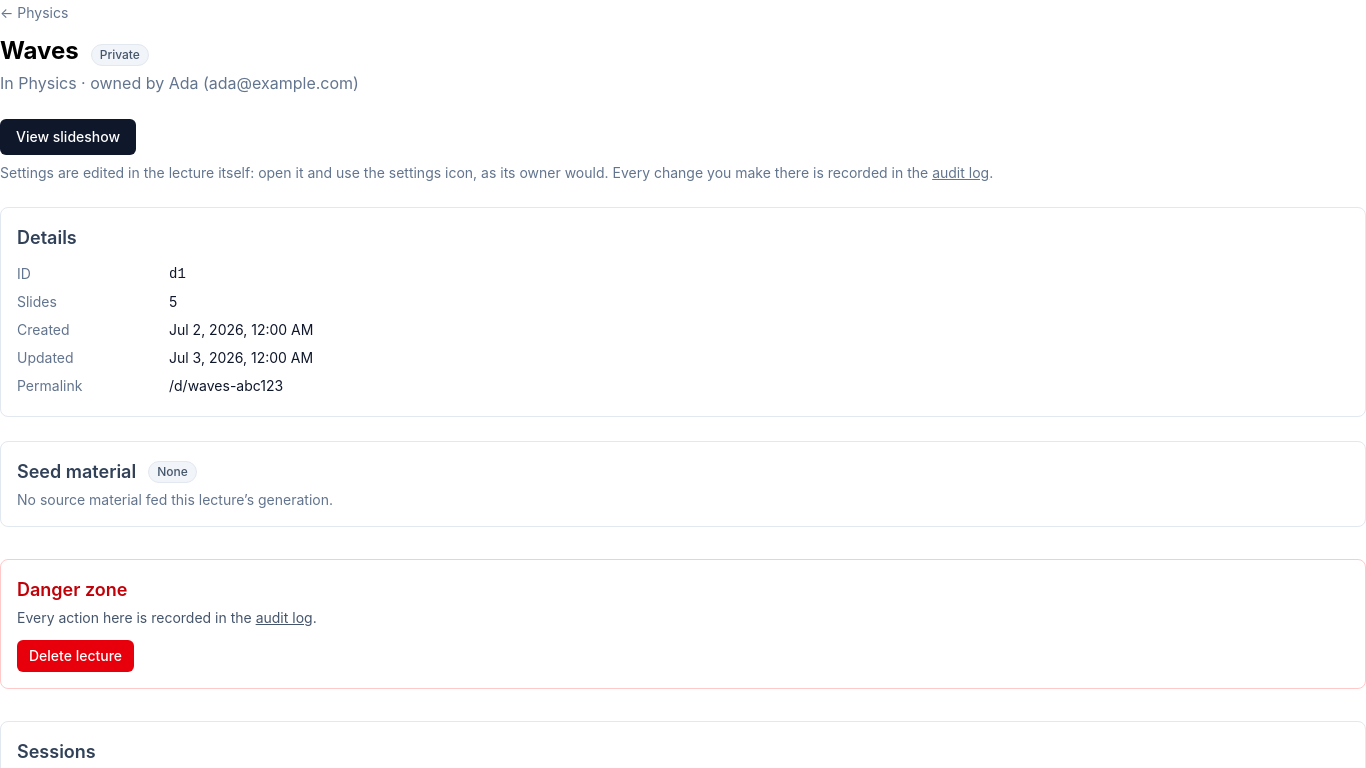
Test: AdminDeckPage › does nothing when the confirm dialog is cancelled
Check: the heading "Waves" is shown, box [0,35,79,67]
Click the button "Delete lecture" at (76, 656), box [17,640,134,672]
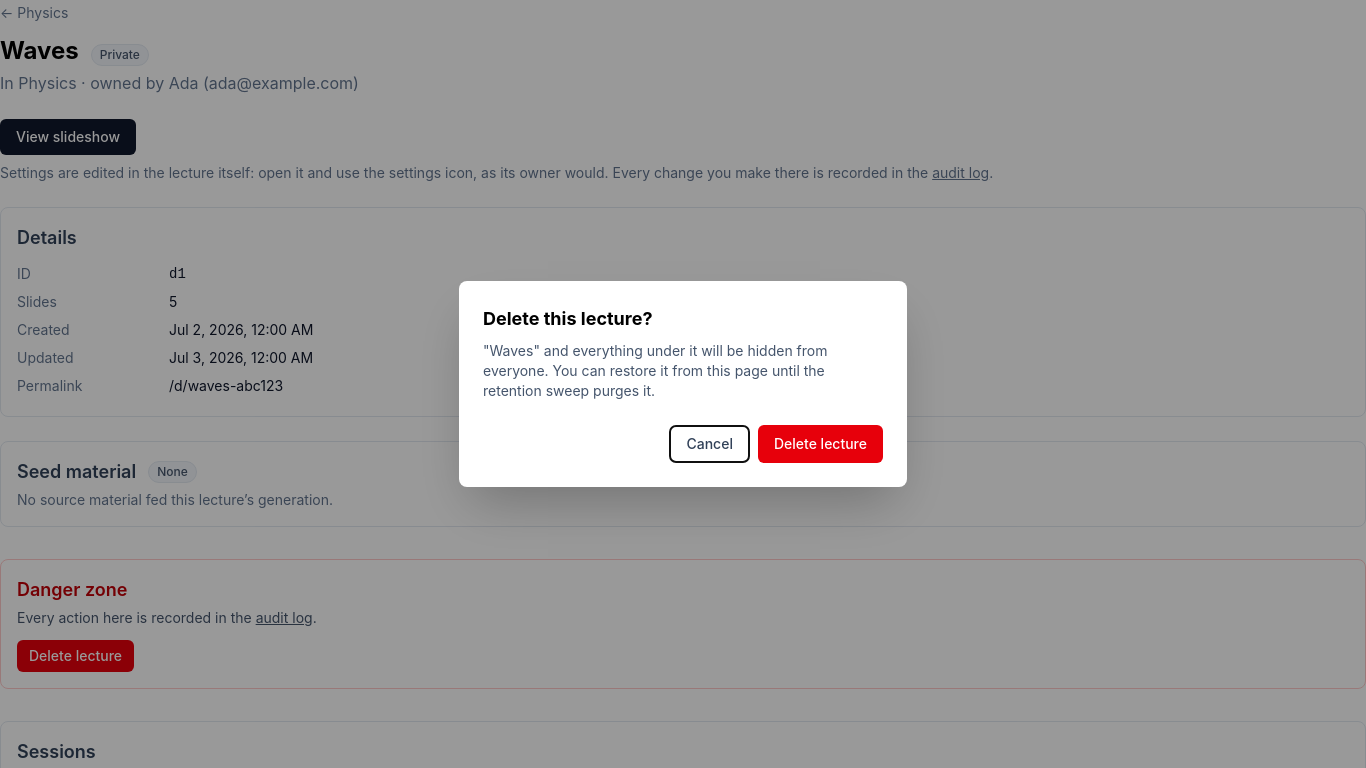
Click the button "Cancel" at (710, 444), box [670,425,750,463]
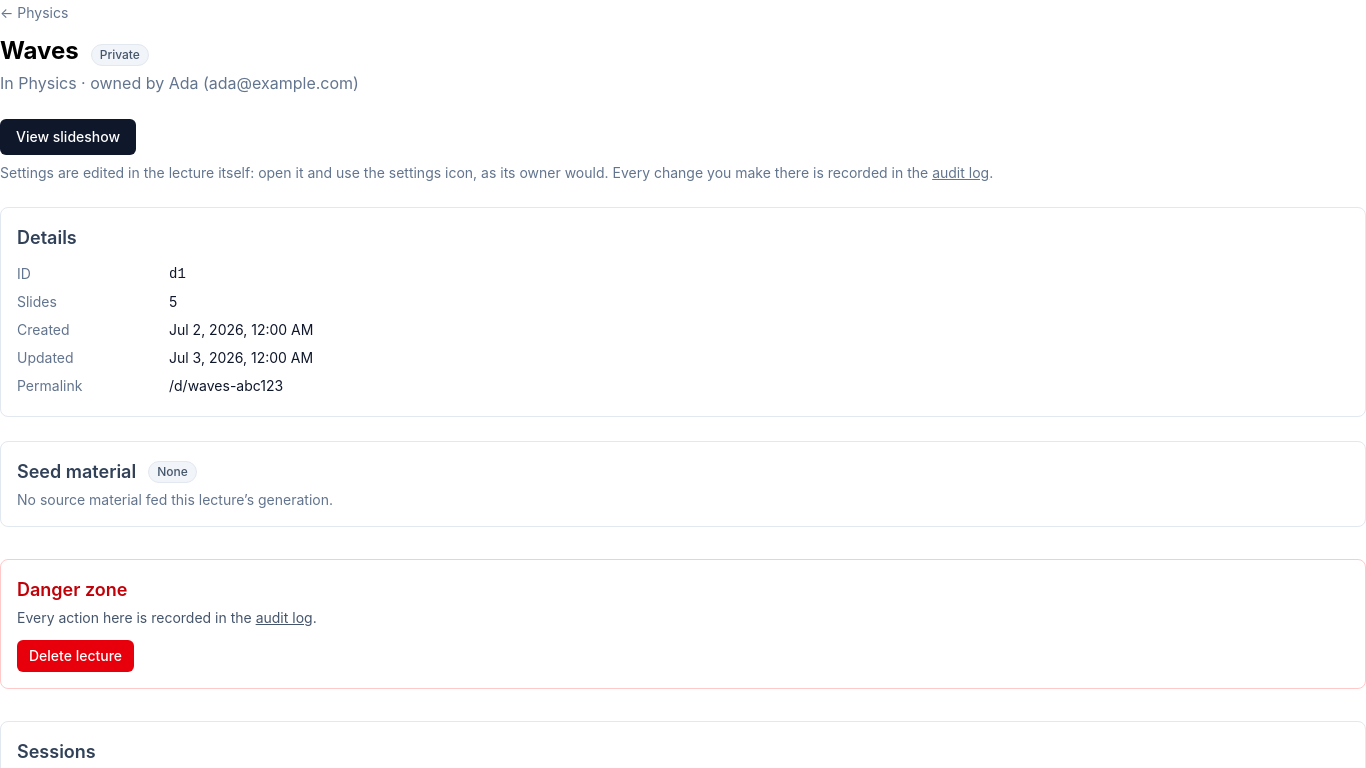
Check: the dialog is gone
